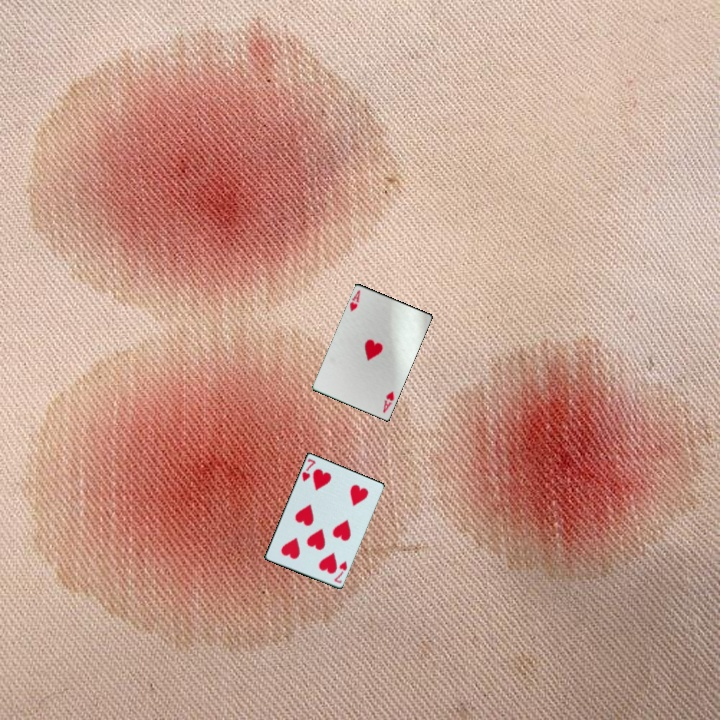7h: (299, 455, 318, 485), (331, 557, 350, 586)
Ah: (379, 387, 397, 415), (346, 286, 363, 314)
